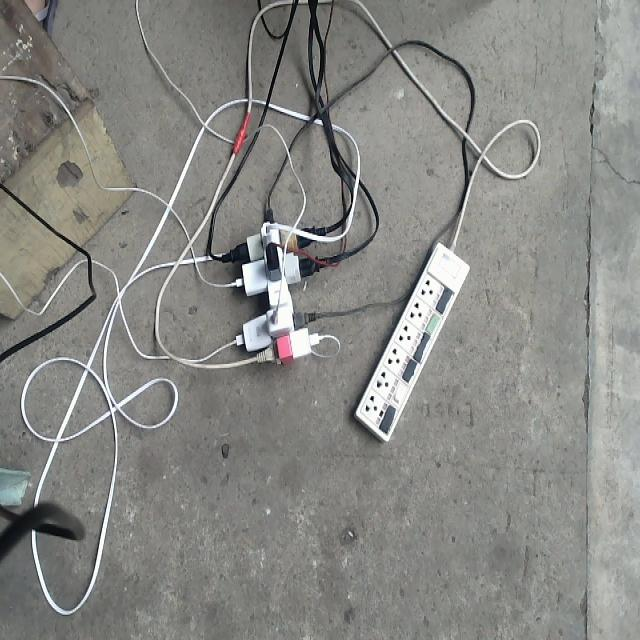-: (218, 207, 327, 368)
